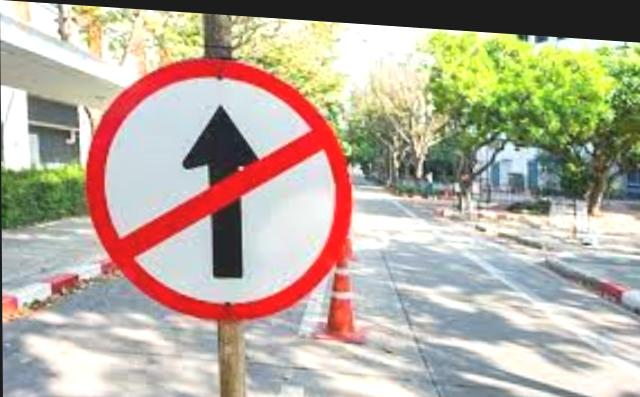not_go_straight: (86, 49, 358, 329)
